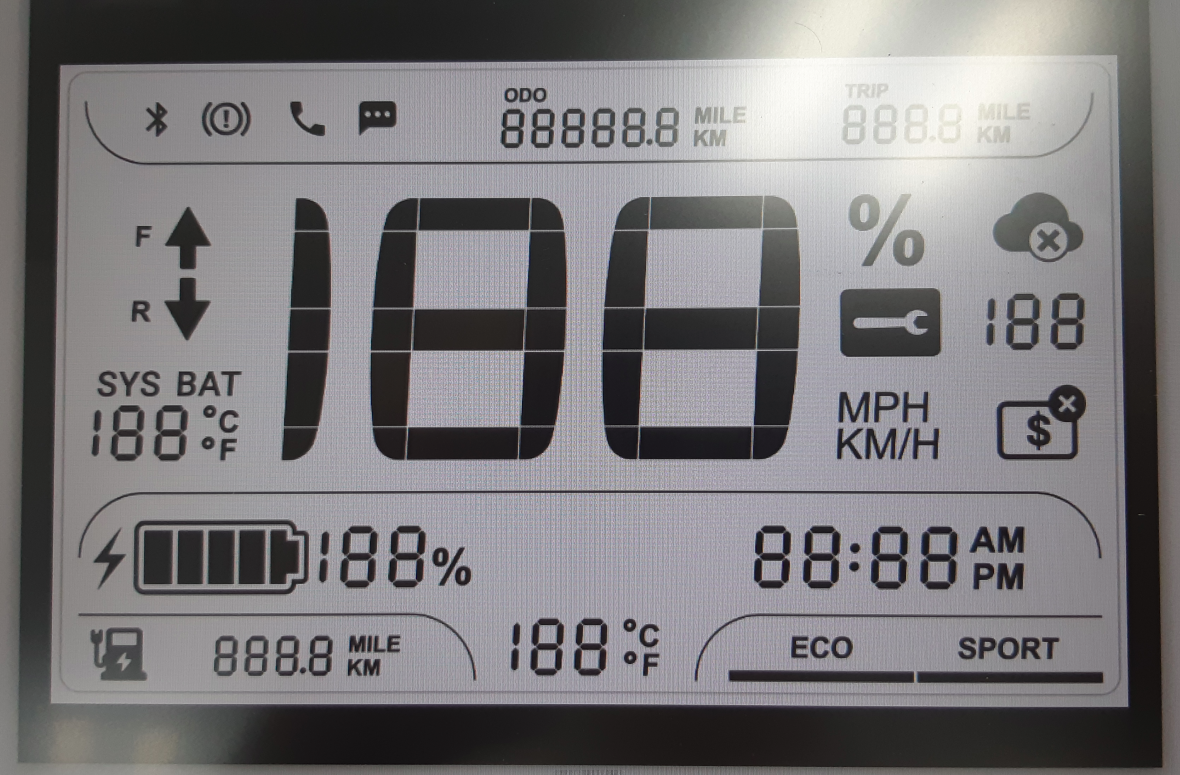bluetooth_on: (138, 97, 176, 142)
braking_on: (199, 97, 254, 140)
calling_on: (285, 98, 328, 139)
connection_lost: (988, 187, 1089, 268)
error_code: (834, 284, 946, 361)
low_battery: (86, 621, 153, 685)
sms_on: (355, 97, 399, 137)
vin_id: (991, 381, 1090, 463)
